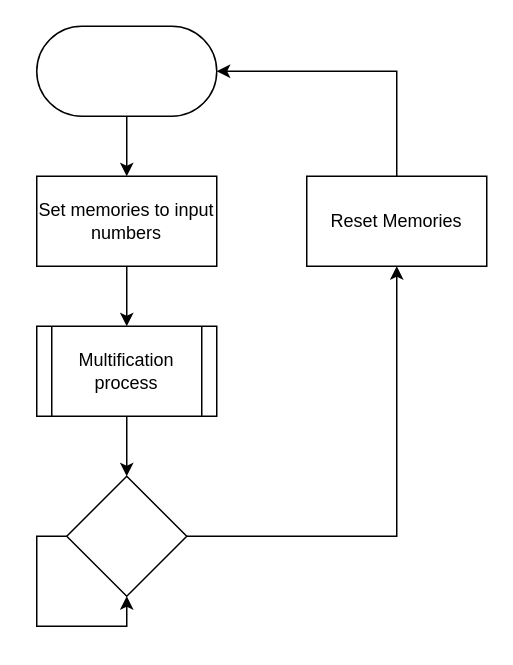
The diagram is 513 pixels wide and 665 high, and some of its shapes have lost their labels. Here are the shapes that lost their labels. From the top down, the centre of each, then its label:
point (126, 70): Start Switch
point (126, 535): reset
